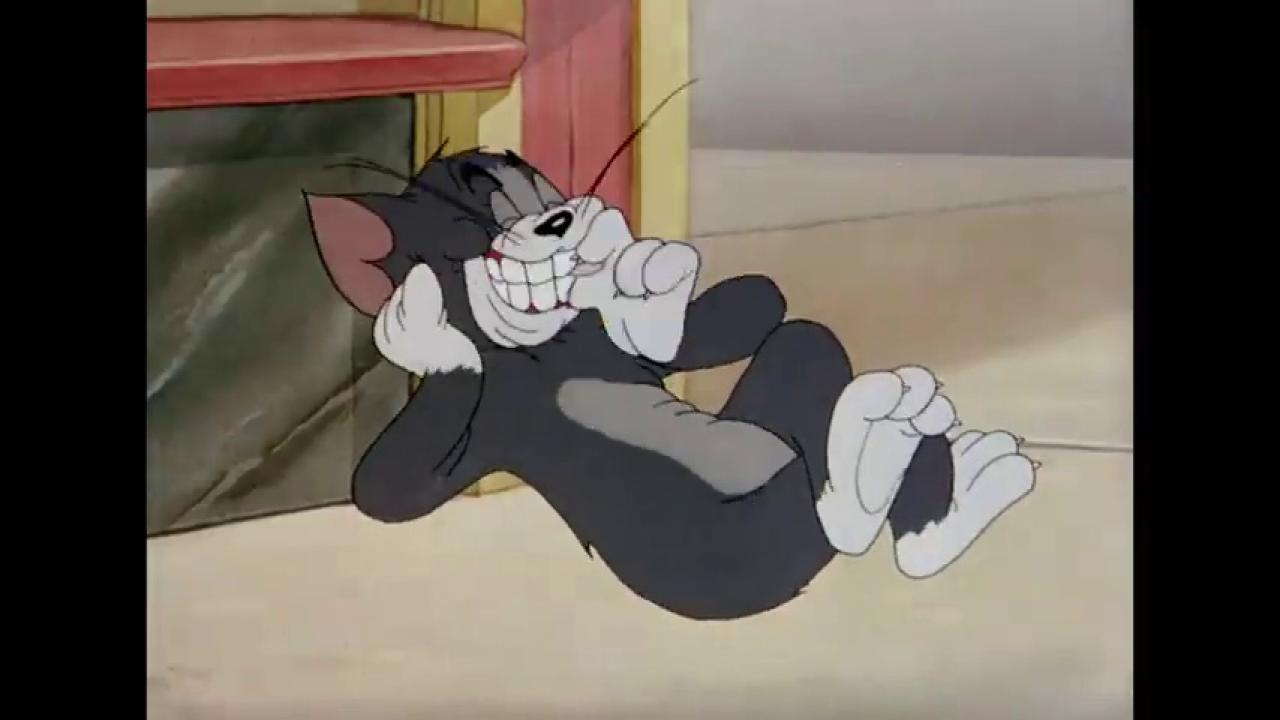Tom: (295, 143, 1044, 623)
